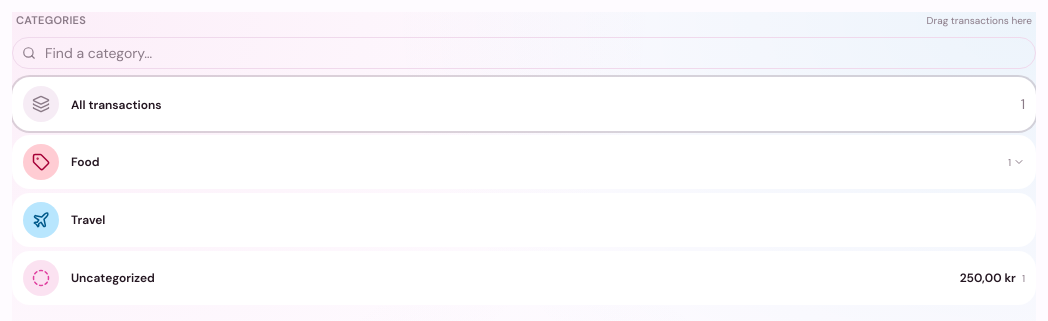
overview transaction interactions › shows every category as a target, including empty categories and subcategories
Expected: the button "Food 1" is shown, [12,134,1036,188]
Expected: the button "Travel" is shown, [12,192,1036,246]
In the field labelled "Find a category": coordinates (524, 52) [12,36,1036,68], type "Groceries"
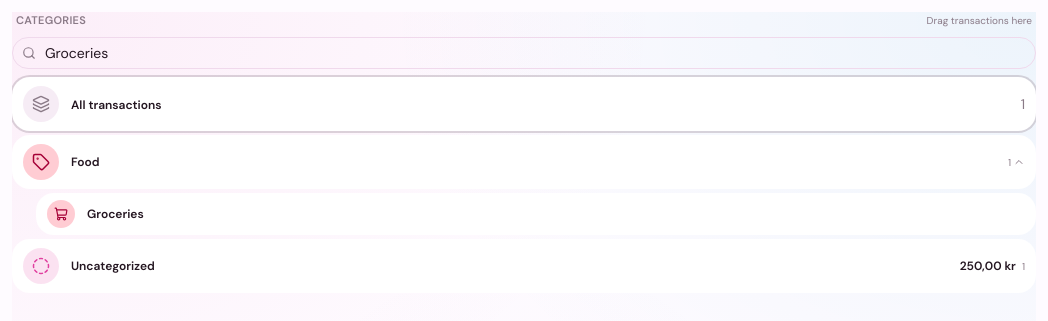
Now the button "Groceries" is shown, box [36,192,1036,234]
